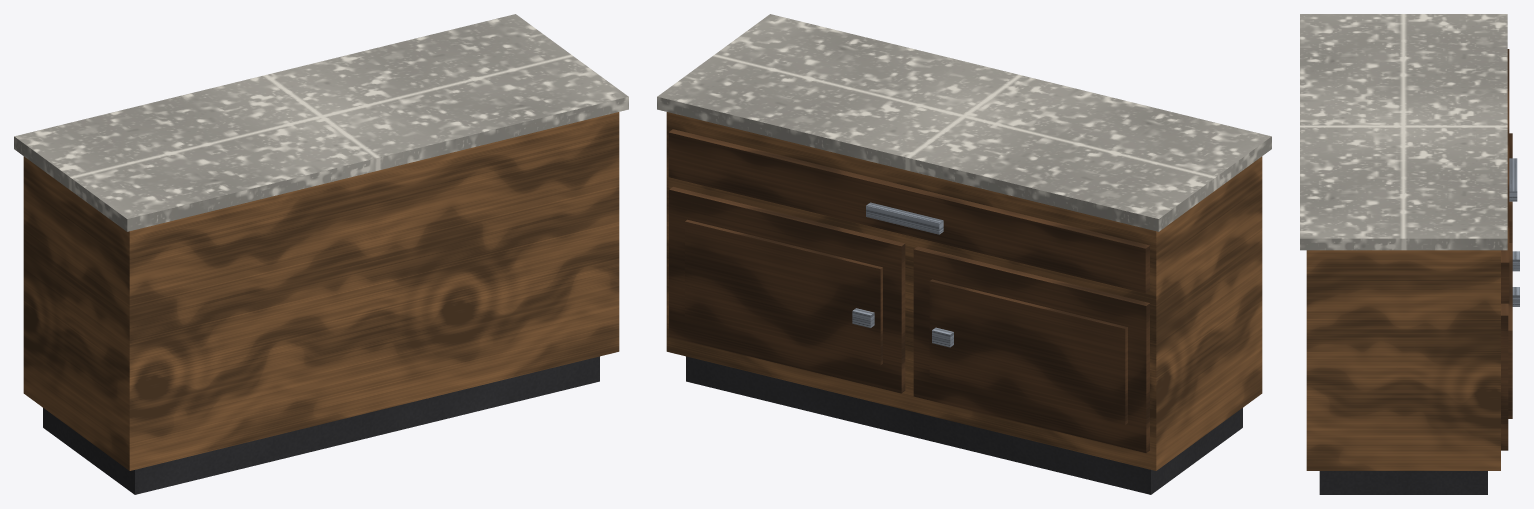
File: kitchen_counter.fbx
3 renders of one model, left to right at view 1: azimuth 30°, elevation 25°; view 2: azimuth 150°, elevation 25°; view 3: azimuth 270°, elevation 25°, orthographic. The views are drawn at different scales.
Parts seen in each view (by area): view 1: kitchen_counter; view 2: kitchen_counter; view 3: kitchen_counter.
Part boxes in pixels (left/top/right/bottom): kitchen_counter: left=14, top=14, right=628, bottom=494; kitchen_counter: left=657, top=14, right=1271, bottom=494; kitchen_counter: left=1300, top=14, right=1519, bottom=494.
Size of the model in its own units: 164 by 90 by 67.8.
